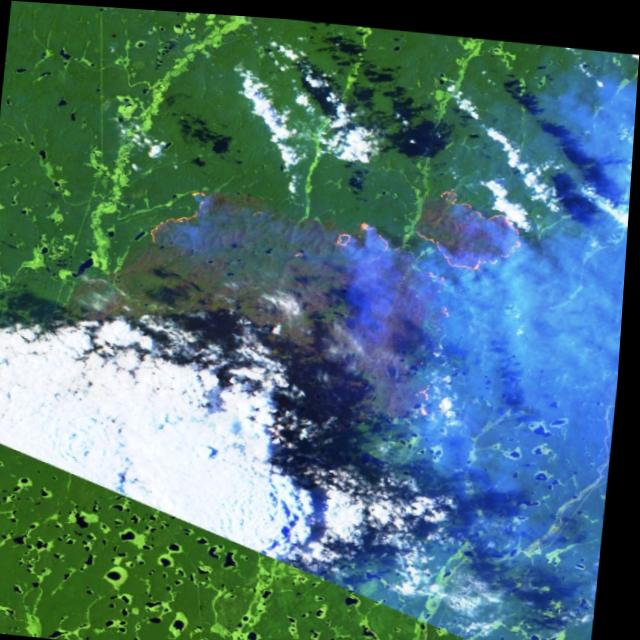fire: (409, 171, 536, 271), (141, 169, 220, 250), (325, 209, 398, 250), (412, 364, 457, 419)
